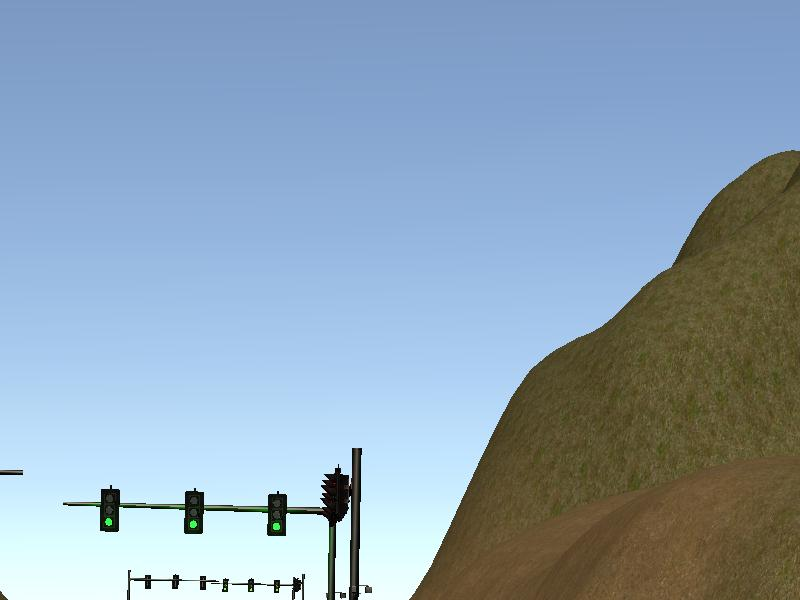Green: (267, 493, 286, 535), (101, 489, 119, 530), (186, 491, 202, 533)
